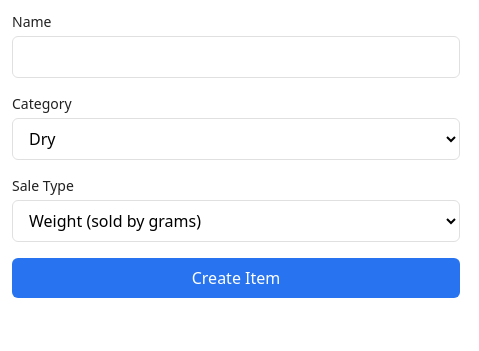
Test: CreateItemForm › shows error message when API returns error
This screenshot has width=479, height=351.
Step 1. Type "Kaju Katli" into the field labelled "Name" → (236, 57), box top-left (12, 36), bottom-right (460, 78)
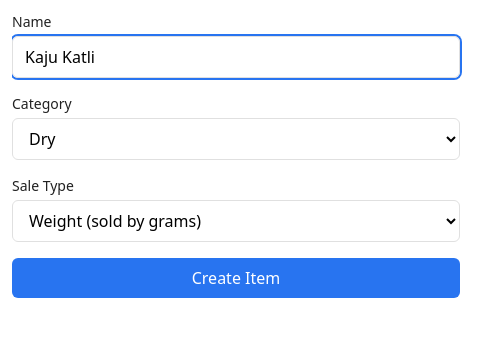
Step 2. Select "Dry" in the dropdown labelled "Category" → (236, 139), box top-left (12, 118), bottom-right (460, 160)
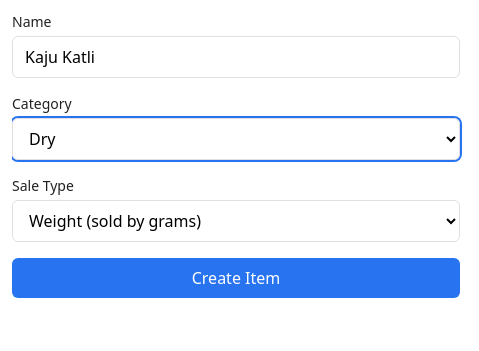
Step 3. Select "Weight (sold by grams)" in the dropdown labelled "Sale Type" → (236, 221), box top-left (12, 200), bottom-right (460, 242)
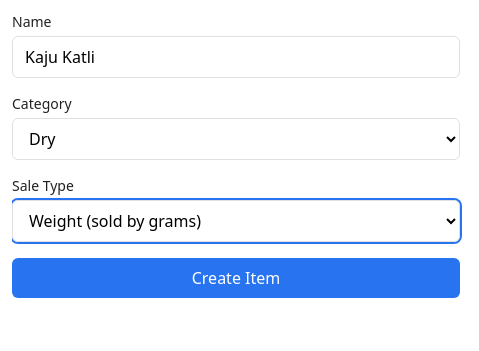
Step 4. Click the button "Create Item" → (236, 278), box top-left (12, 258), bottom-right (460, 298)
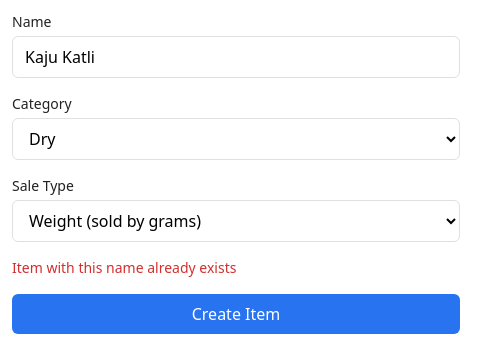
Check: the text "Item with this name already exists" is shown, box top-left (12, 258), bottom-right (236, 277)
